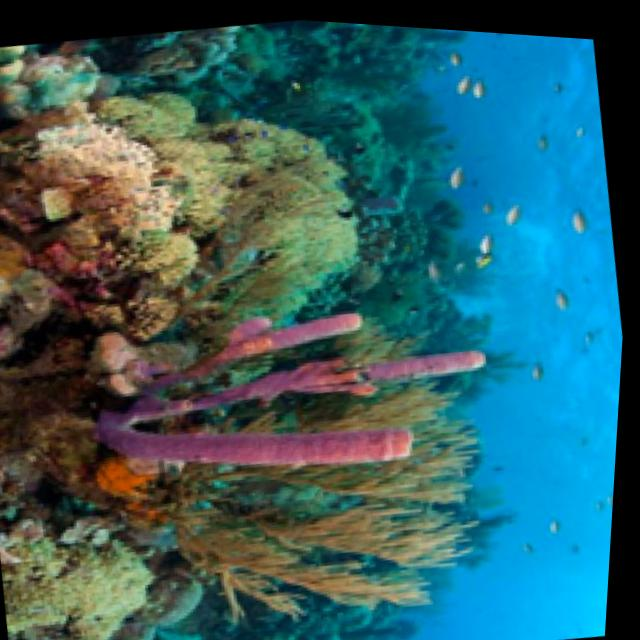Healthy Coral: (79, 258, 518, 518), (147, 436, 513, 640), (160, 69, 384, 332), (21, 76, 224, 348), (0, 498, 174, 640)
